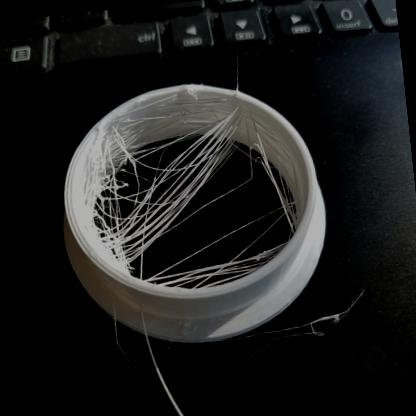fail: (103, 126, 308, 302)
